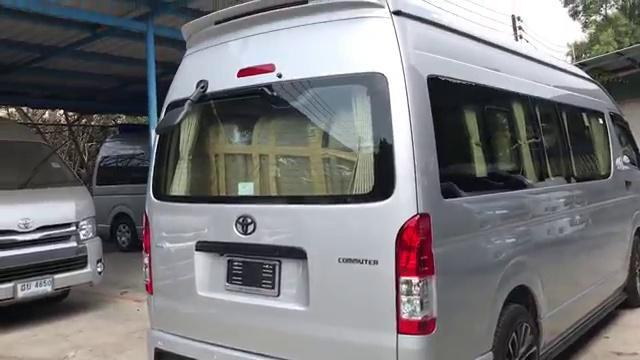van: (133, 3, 640, 360)
